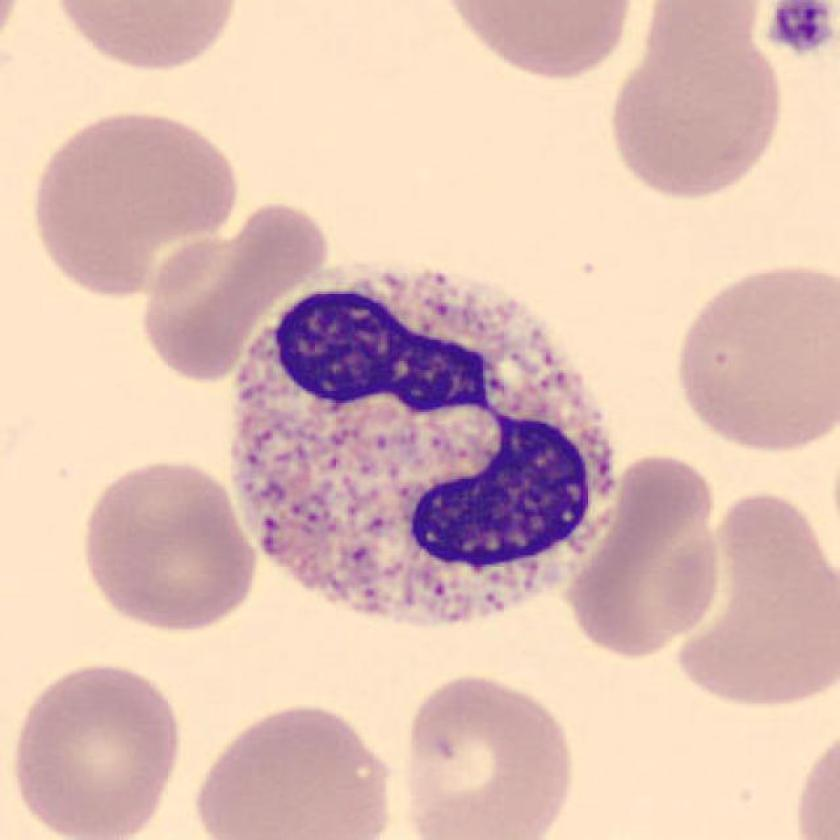neutrophil: (225, 264, 614, 626)
